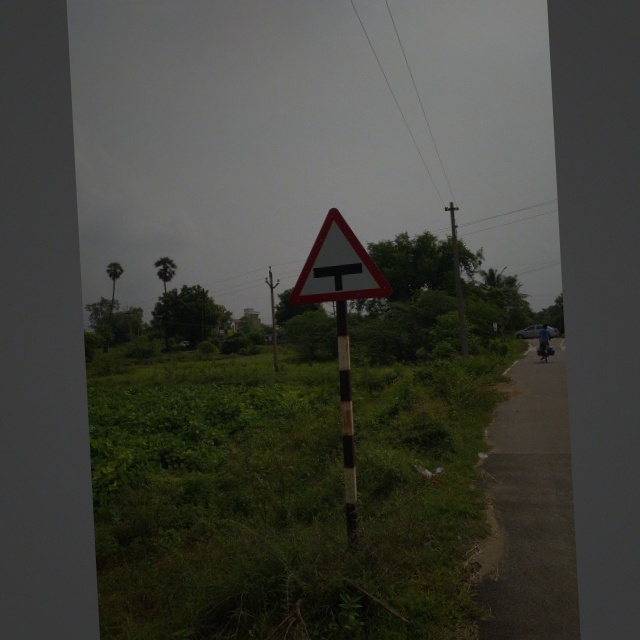T_Intersection: (270, 185, 396, 315)
